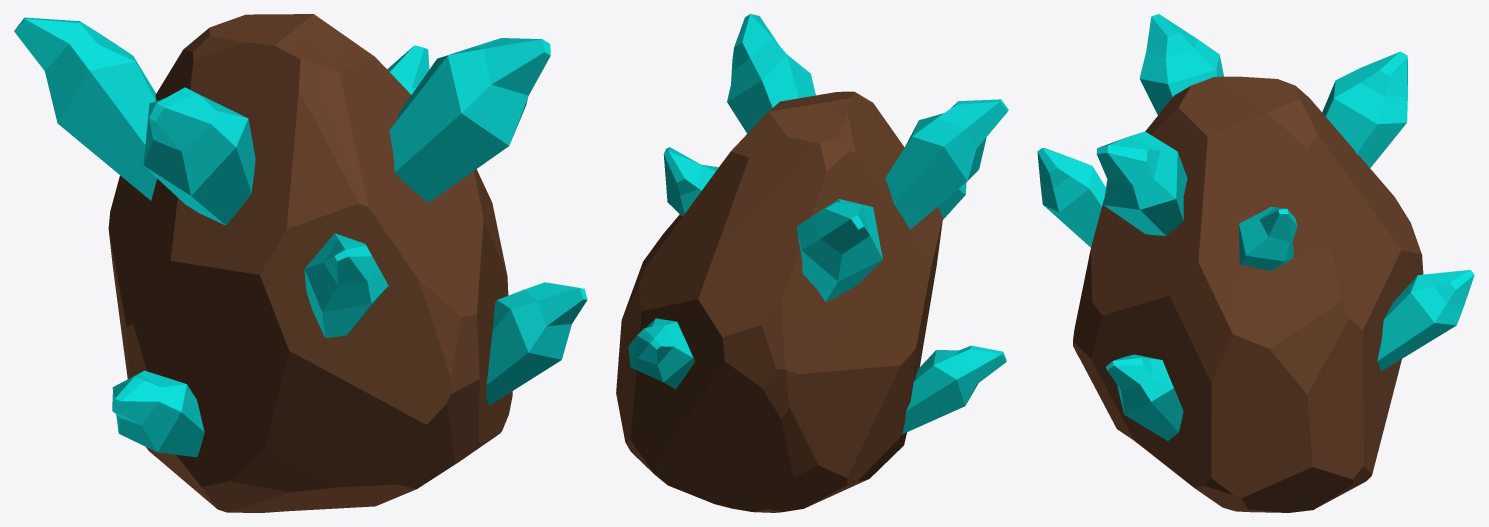
The model's file is MineralNode_10_A.fbx.
3 views of the same model, side by side, from view 1: azimuth 30°, elevation 25°; view 2: azimuth 150°, elevation 25°; view 3: azimuth 270°, elevation 25° (orthographic). The views are drawn at different scales.
Parts seen in each view (by area): view 1: MineralNode_10_A; view 2: MineralNode_10_A; view 3: MineralNode_10_A.
Part boxes in pixels (box(x1,y1,x2,y2)): MineralNode_10_A: box(14, 14, 587, 512); MineralNode_10_A: box(616, 14, 1008, 512); MineralNode_10_A: box(1037, 14, 1474, 512).
Size of the model in its own units: 82.25 by 91.57 by 94.27.
